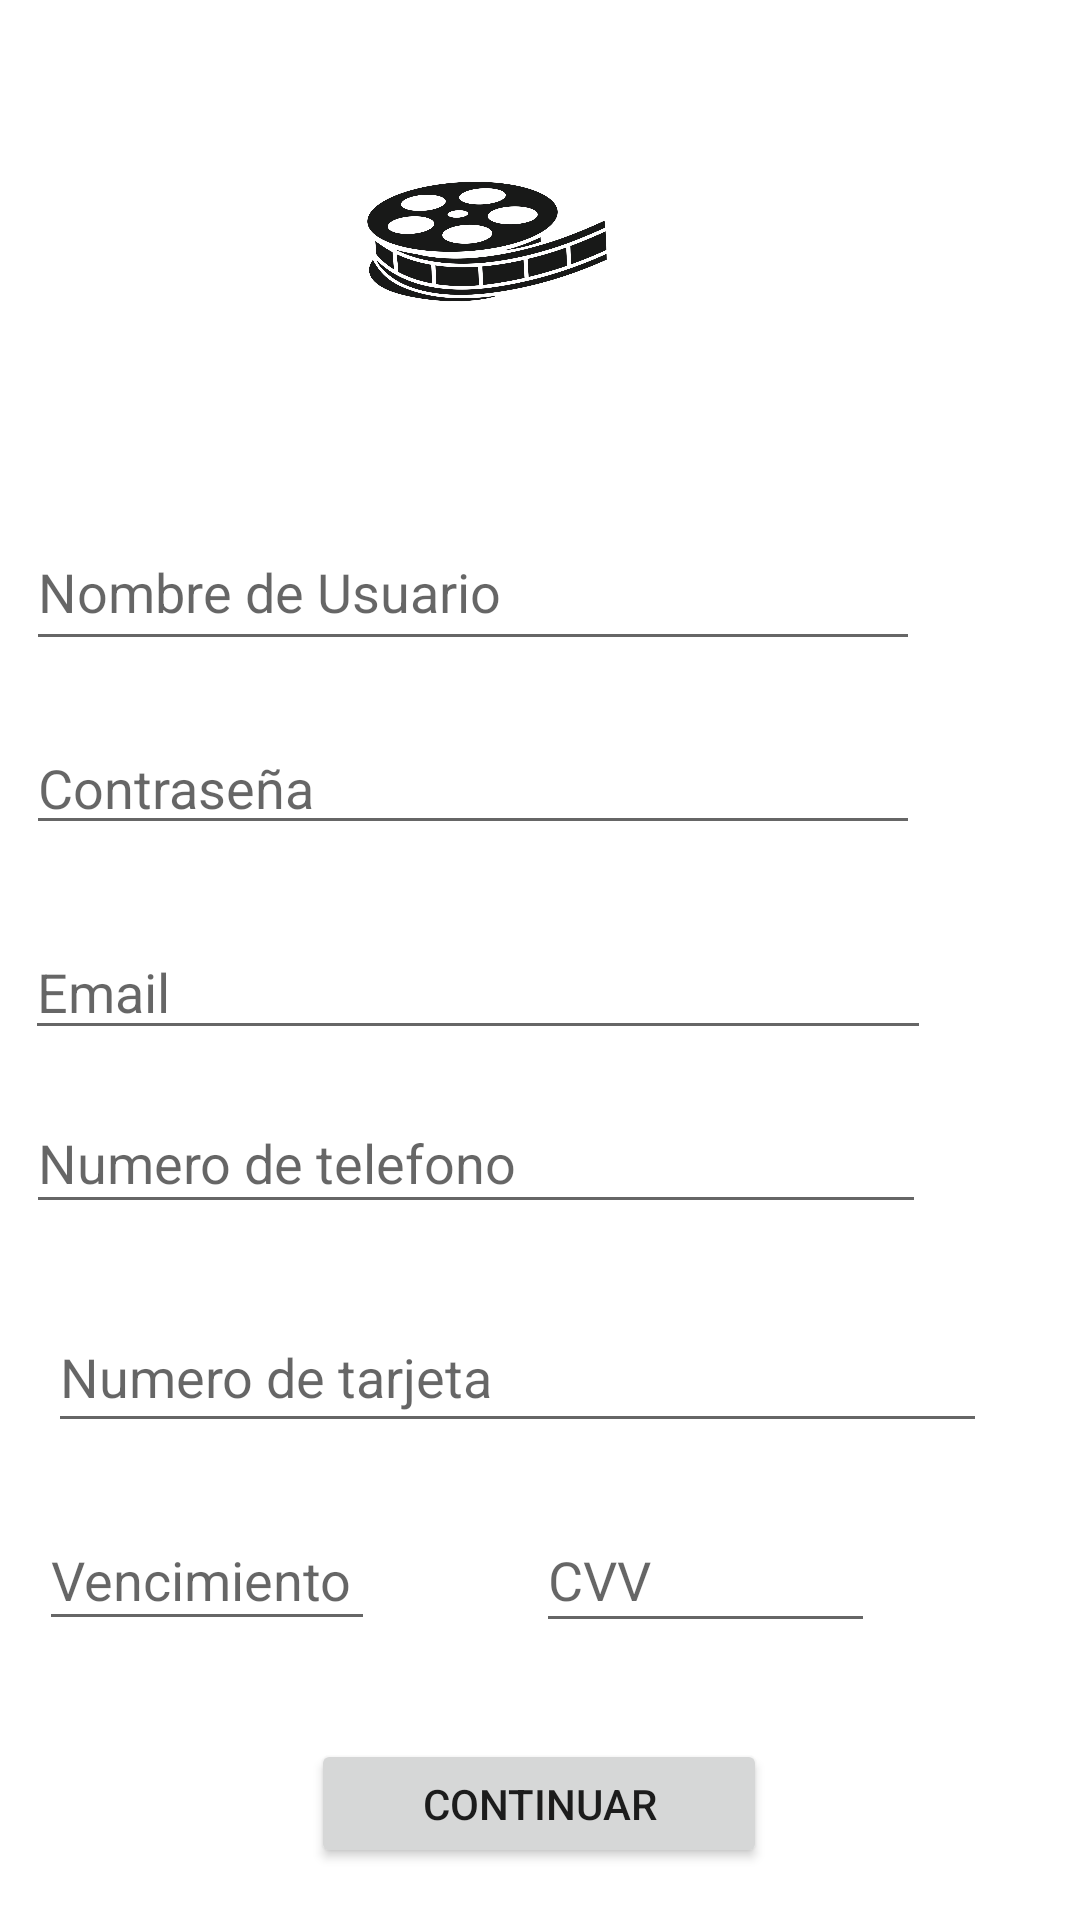

Screen size 1080x1920. Icon name, then its box in pixels as (x1, y1, x2, y2):
rollo: (367, 182, 607, 301)
